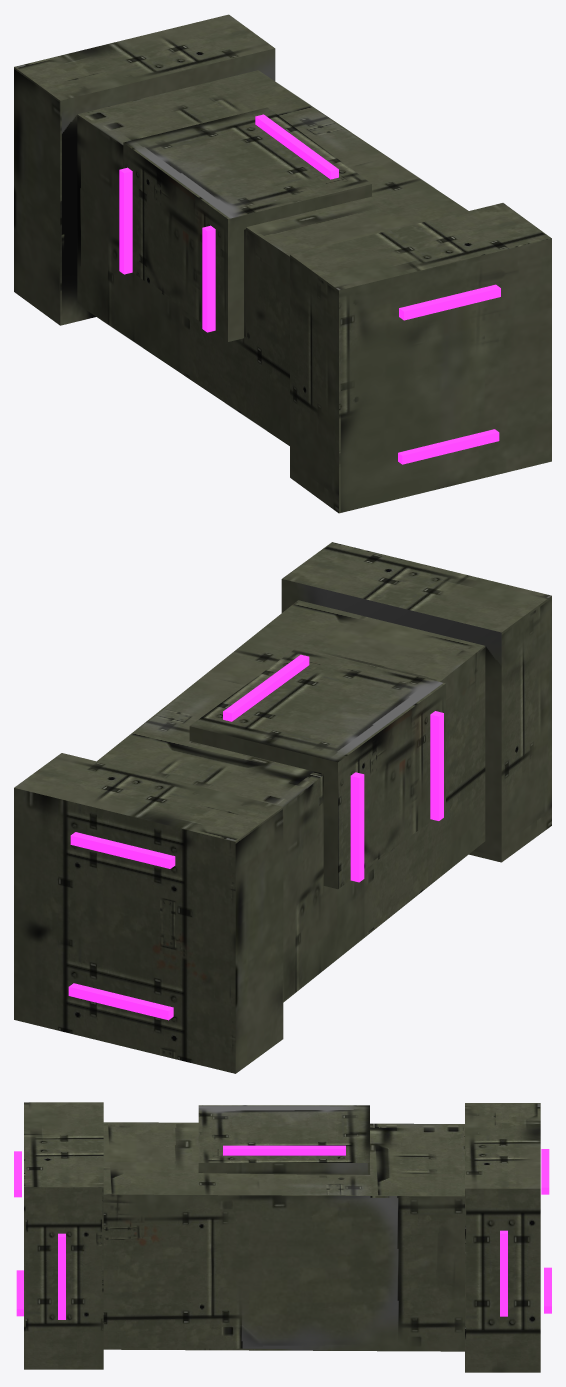
The model's file is ScifiBox.fbx.
3 views of the same model, one above another, from view 1: azimuth 30°, elevation 25°; view 2: azimuth 150°, elevation 25°; view 3: azimuth 270°, elevation 25° (orthographic). The views are drawn at different scales.
Visible parts, largest first — view 1: ScifiBox_LOD0; view 2: ScifiBox_LOD0; view 3: ScifiBox_LOD0.
Boxes of the visible parts, x1,y1,x2,y2 form: ScifiBox_LOD0: (14, 14, 551, 513); ScifiBox_LOD0: (14, 542, 551, 1073); ScifiBox_LOD0: (14, 1102, 551, 1372).
Size of what is drawn, in the model's own units: 263 by 245 by 628.
Materials: 2 (1 with a texture image).
